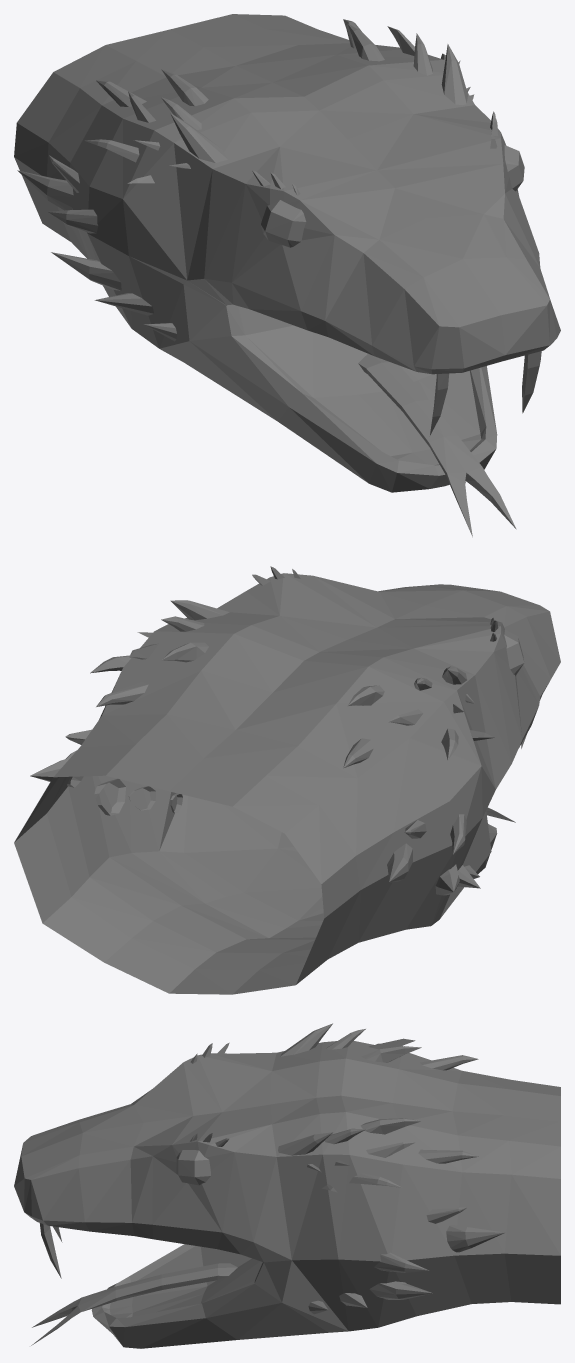
Rendered from SnakeHeadTrapStone.fbx.
The picture shows the model from 3 angles, top to bottom: view 1: azimuth 30°, elevation 25°; view 2: azimuth 150°, elevation 25°; view 3: azimuth 270°, elevation 25°; orthographic projection. The views are drawn at different scales.
Parts seen in each view (by area): view 1: SnakeHeadTrapStone; view 2: SnakeHeadTrapStone; view 3: SnakeHeadTrapStone.
Part boxes in pixels (x1,y1,x2,y2): SnakeHeadTrapStone: (14,14,560,537); SnakeHeadTrapStone: (14,566,560,994); SnakeHeadTrapStone: (14,1023,560,1348).
Size of the model in its own units: 47.05 by 35.98 by 68.22.
